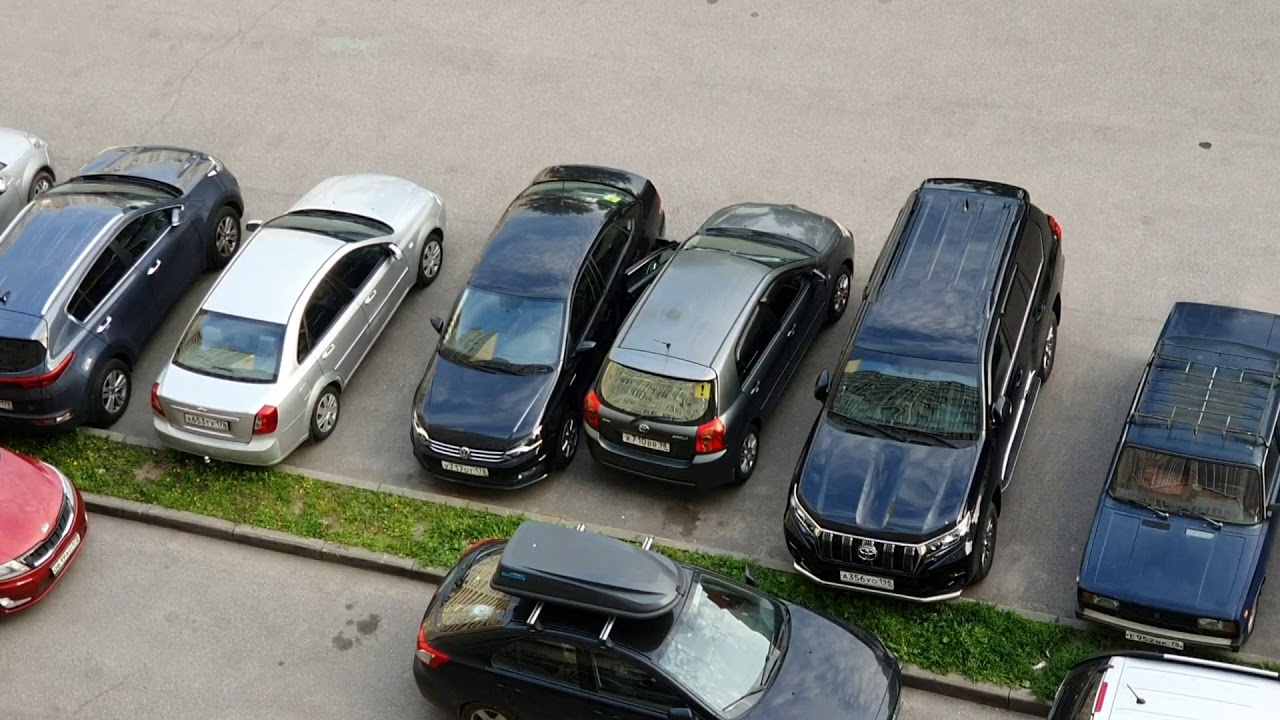Car: (783, 178, 1064, 603), (413, 520, 902, 720), (150, 173, 447, 467), (410, 164, 666, 490), (583, 203, 855, 488), (1075, 301, 1280, 651), (0, 145, 245, 428), (1048, 651, 1280, 720), (0, 448, 89, 616), (0, 127, 56, 230)
